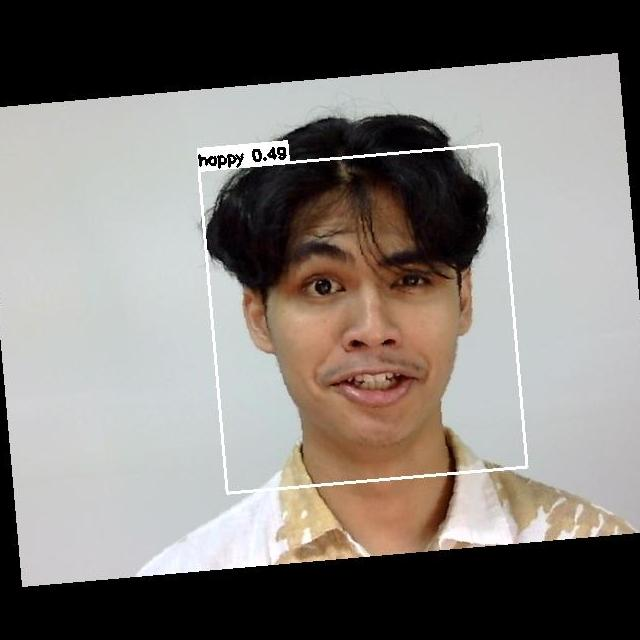Fear: (253, 208, 473, 416)
